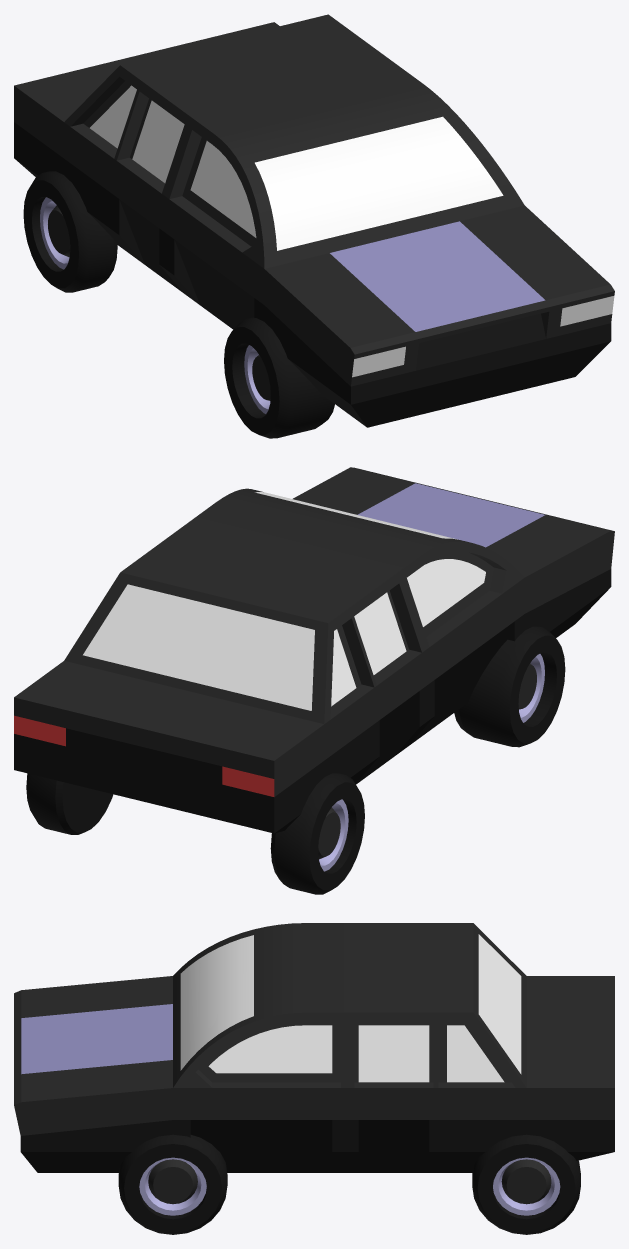
File: Car.fbx
The picture shows the model from 3 angles, top to bottom: view 1: azimuth 30°, elevation 25°; view 2: azimuth 150°, elevation 25°; view 3: azimuth 270°, elevation 25°; orthographic projection. The views are drawn at different scales.
Parts seen in each view (by area): view 1: mergedBlocks; view 2: mergedBlocks; view 3: mergedBlocks.
Boxes of the visible parts, box(x1,y1,x2,y2) form: mergedBlocks: box(14, 14, 614, 438); mergedBlocks: box(14, 467, 614, 894); mergedBlocks: box(14, 923, 614, 1234).
Bounding box in the file's own units: 16.33 × 13.08 × 34.
